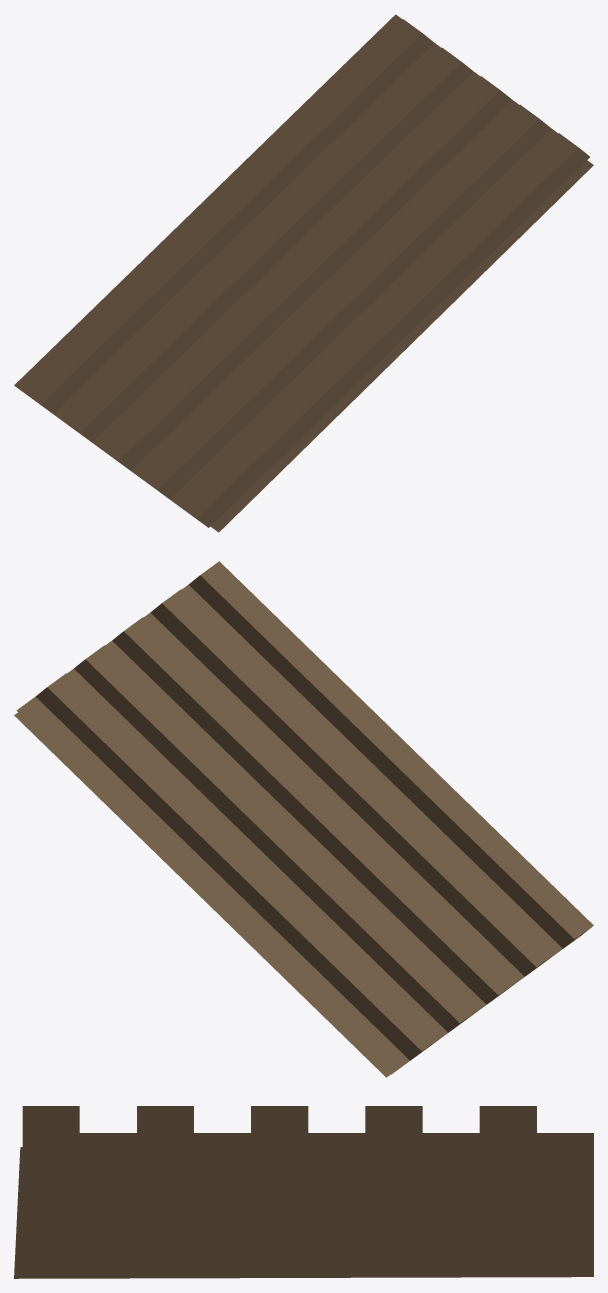
File: Roof_Mid.fbx
3 renders of one model, top to bottom at view 1: azimuth 30°, elevation 25°; view 2: azimuth 150°, elevation 25°; view 3: azimuth 270°, elevation 25°, orthographic. The views are drawn at different scales.
Visible parts, largest first — view 1: Roof_Mid; view 2: Roof_Mid; view 3: Roof_Mid.
Part boxes in pixels (<box>): Roof_Mid: <box>14,14,593,532</box>; Roof_Mid: <box>14,561,593,1077</box>; Roof_Mid: <box>14,1106,593,1278</box>.
Size of the model in its own units: 1.17 by 0.8346 by 1.01.
